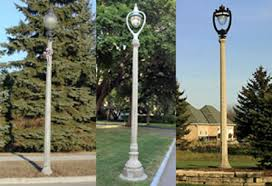light_pole: (118, 3, 148, 186), (212, 5, 236, 173), (39, 15, 57, 173)
